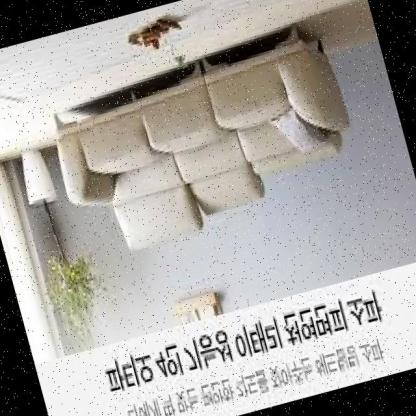Sofa: (28, 0, 385, 298)
